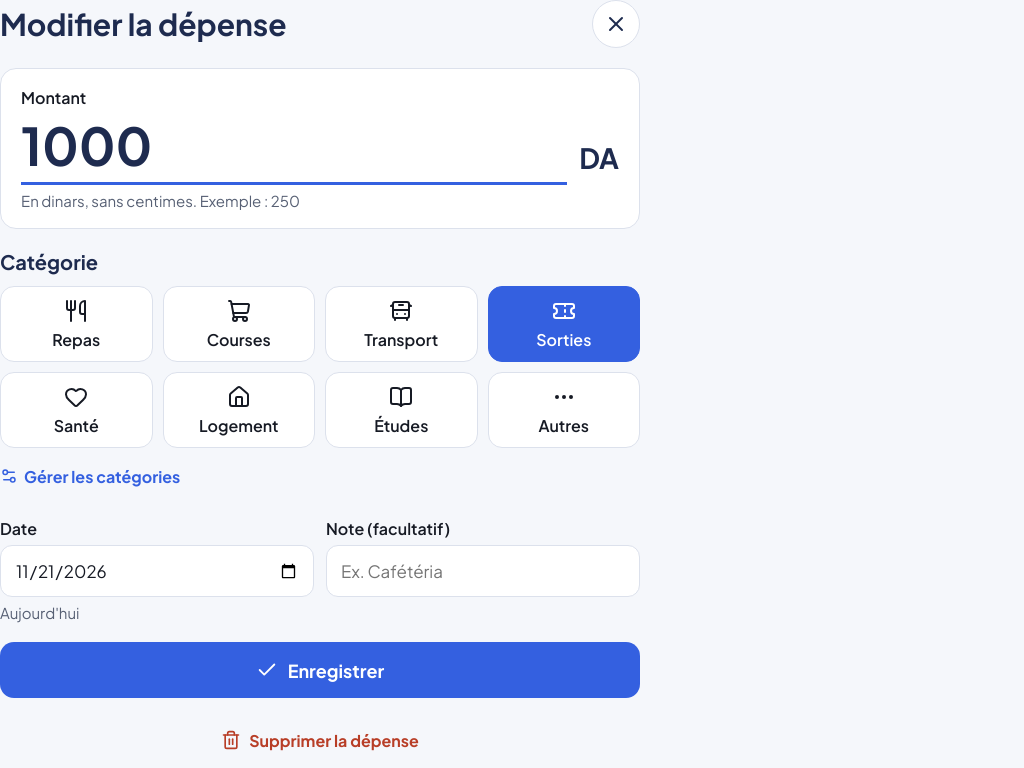
EditExpense › ouvert depuis la liste du mois : la suppression revient sur la liste du même mois, avec « Annuler »
Step 1. Click the button "Supprimer la dépense" → (320, 740), box [0,718,640,762]
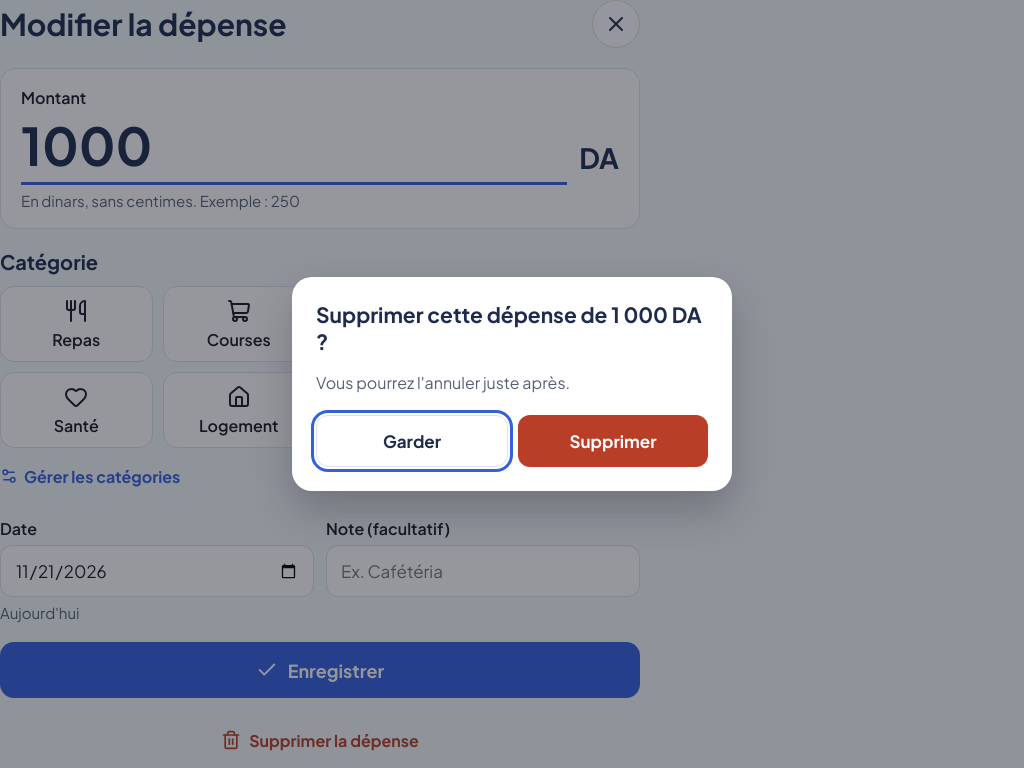
Step 2. Click the button "Supprimer" → (613, 441), box [518,415,708,467]
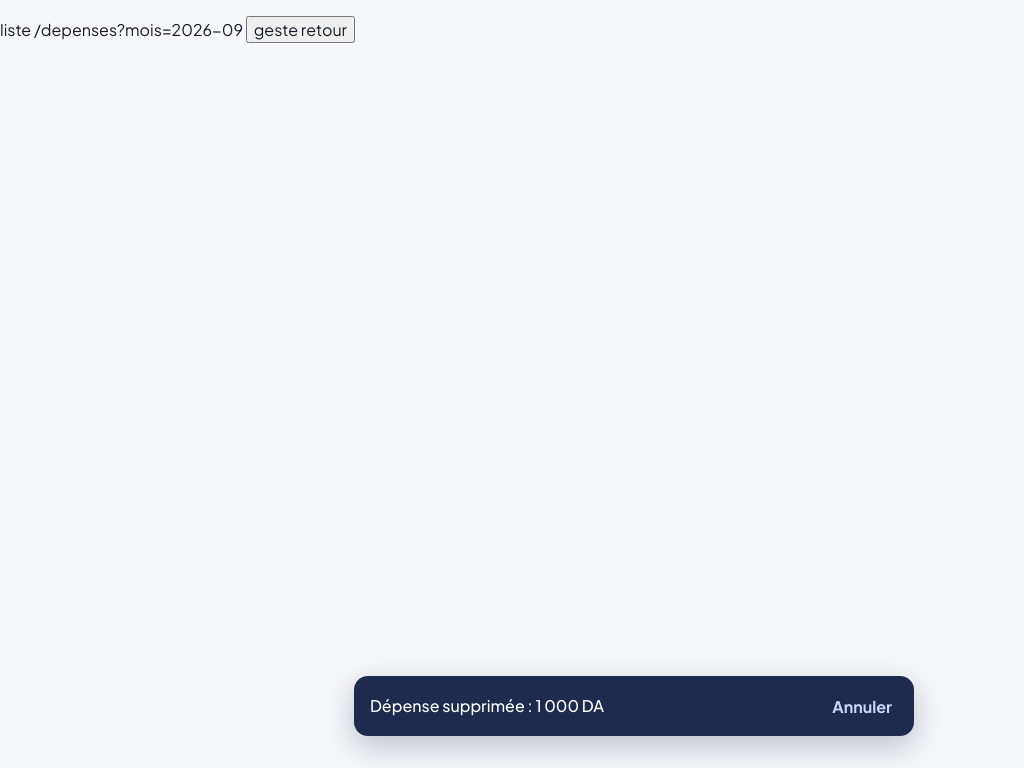
Expected: the button "Annuler" is shown, [818,684,906,728]
Expected: the text "liste /depenses?mois=2026-09" is shown, [0,16,355,43]
Expected: the text "Dépense supprimée : 1 000 DA" is shown, [370,695,604,716]
